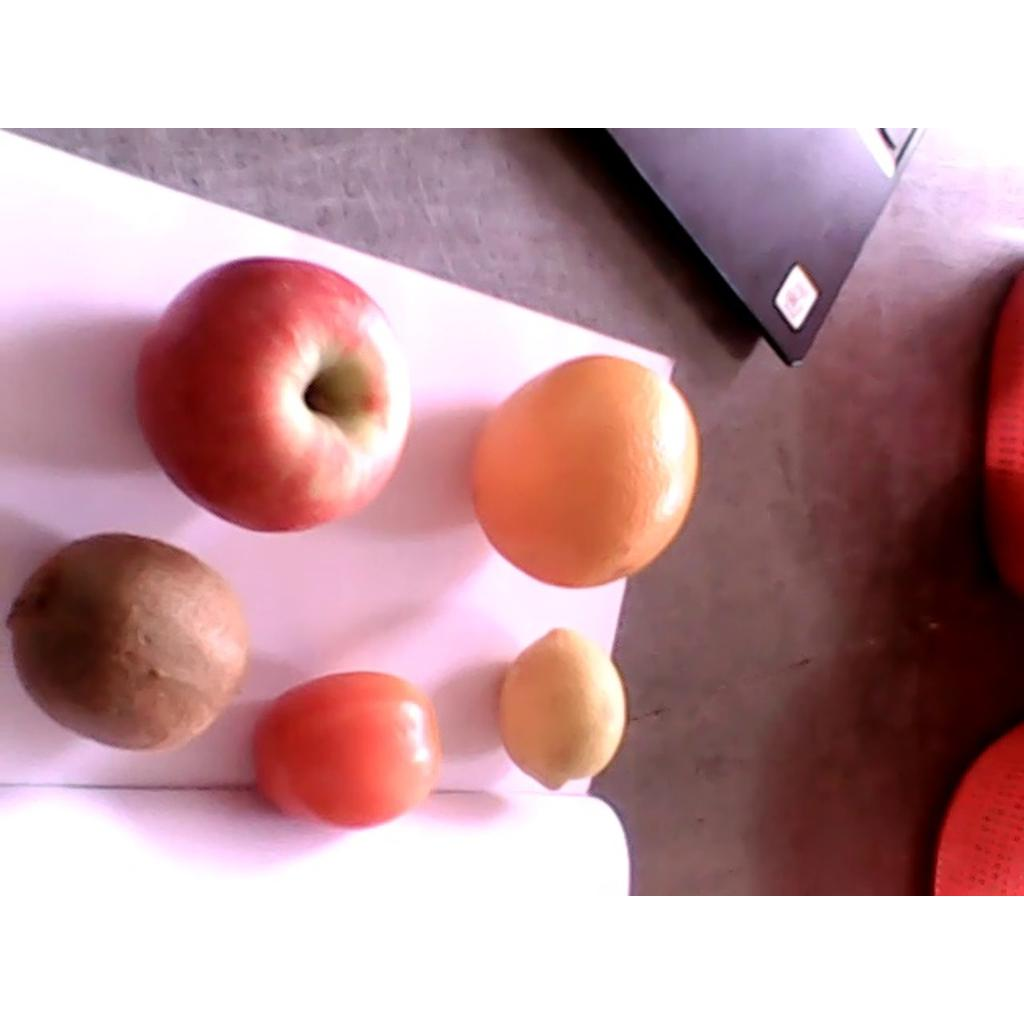apple: (133, 259, 416, 533)
kiwi: (4, 532, 249, 750)
lemon: (498, 629, 628, 792)
orange: (469, 356, 700, 590)
tomato: (253, 671, 447, 828)
